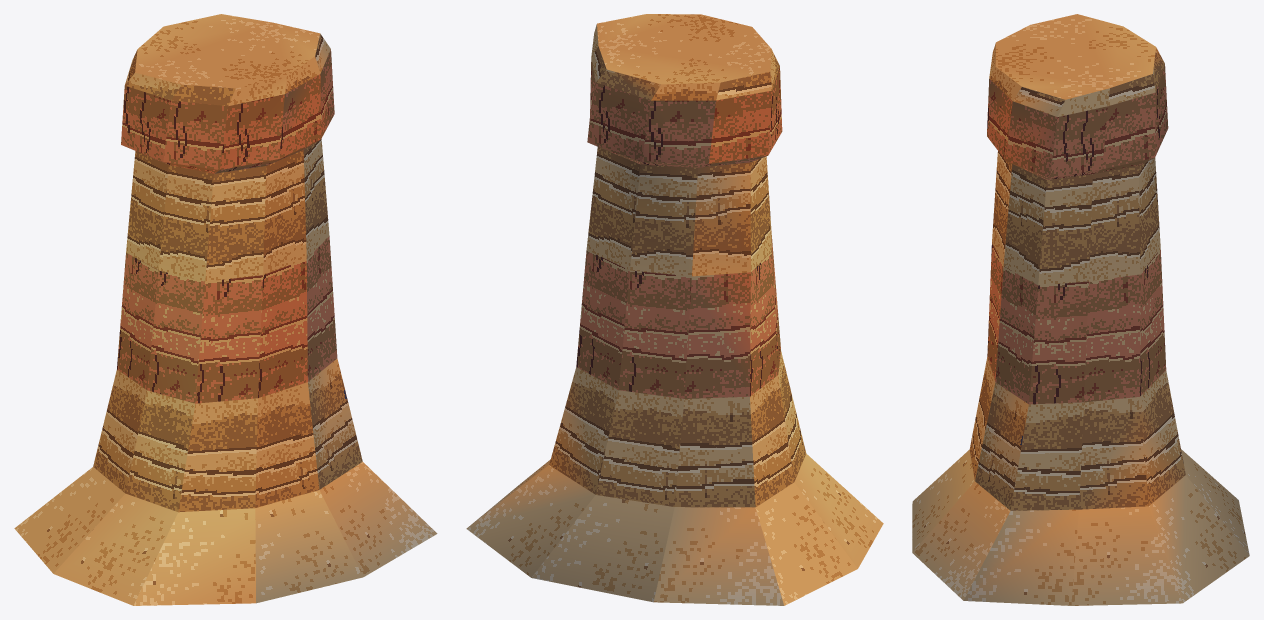
The model's file is wland.butte.glb.
3 views of the same model, side by side, from view 1: azimuth 30°, elevation 25°; view 2: azimuth 150°, elevation 25°; view 3: azimuth 270°, elevation 25° (orthographic).
Parts seen in each view (by area): view 1: kit_butte; view 2: kit_butte; view 3: kit_butte.
Boxes of the visible parts, x1,y1,x2,y2 form: kit_butte: (14, 14, 437, 605); kit_butte: (466, 14, 883, 605); kit_butte: (912, 14, 1249, 605).
Size of the model in its own units: 10.41 by 14 by 9.12.
Materials: 4 (4 with a texture image).
